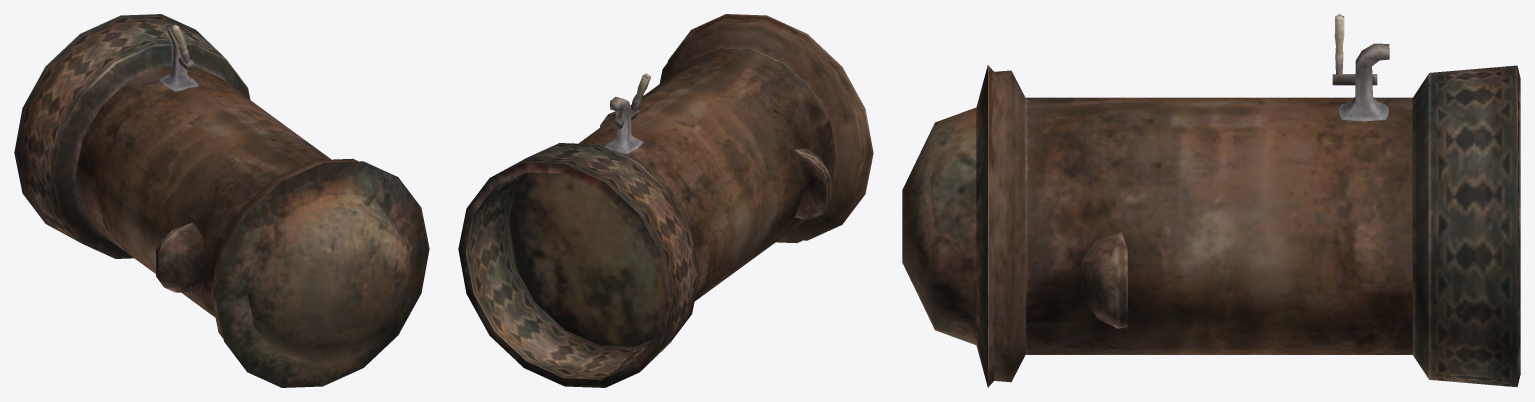
File: vanillamesh.obj
3 views of the same model, side by side, from view 1: azimuth 30°, elevation 25°; view 2: azimuth 150°, elevation 25°; view 3: azimuth 270°, elevation 25° (orthographic). The views are drawn at different scales.
Parts seen in each view (by area): view 1: Cylinder02:0; view 2: Cylinder02:0; view 3: Cylinder02:0.
Part boxes in pixels (x1,y1,x2,y2): Cylinder02:0: [14, 14, 429, 387]; Cylinder02:0: [458, 14, 873, 387]; Cylinder02:0: [902, 14, 1520, 387].
Size of the model in its own units: 36.17 by 40.4 by 64.79.
